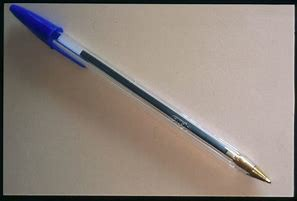pen: (6, 5, 274, 184)
